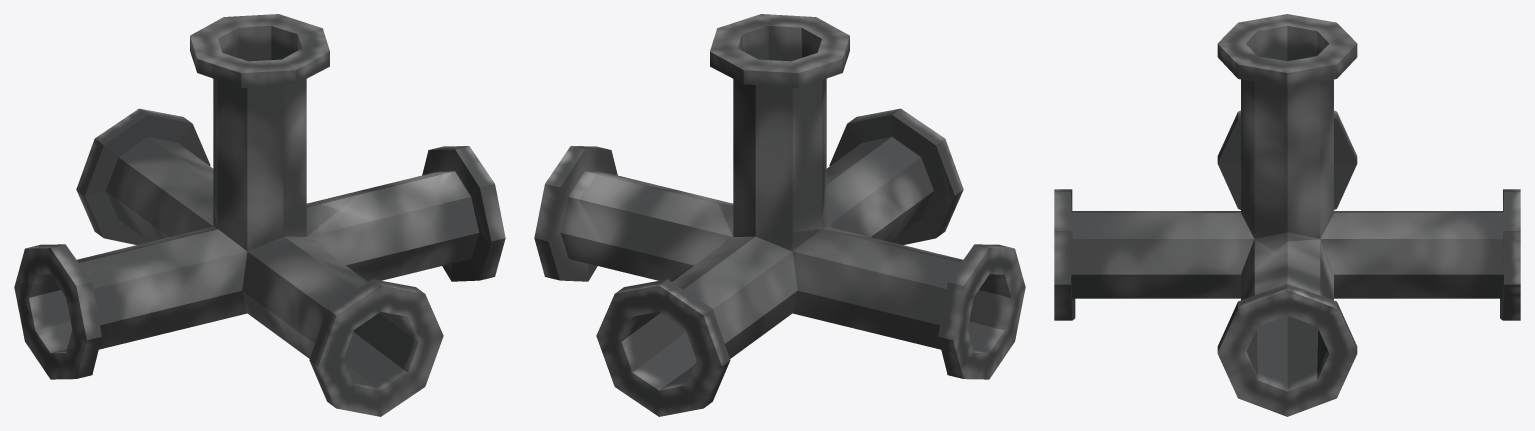
3 views of the same model, side by side, from view 1: azimuth 30°, elevation 25°; view 2: azimuth 150°, elevation 25°; view 3: azimuth 270°, elevation 25° (orthographic). The views are drawn at different scales.
Parts seen in each view (by area): view 1: Pipe5; view 2: Pipe5; view 3: Pipe5.
Part boxes in pixels (x1,y1,x2,y2): Pipe5: (14,14,505,416); Pipe5: (534,14,1025,416); Pipe5: (1054,14,1520,416).
Size of the model in its own units: 10 by 6.5 by 10.
Materials: 1 (1 with a texture image).
